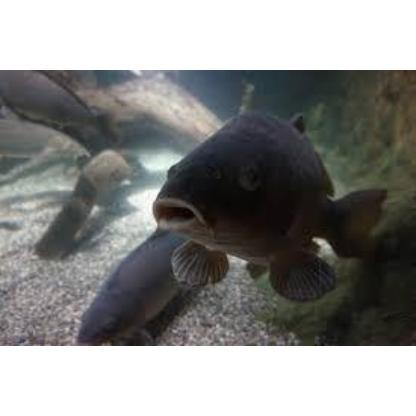ikan-mas: (148, 105, 364, 291)
